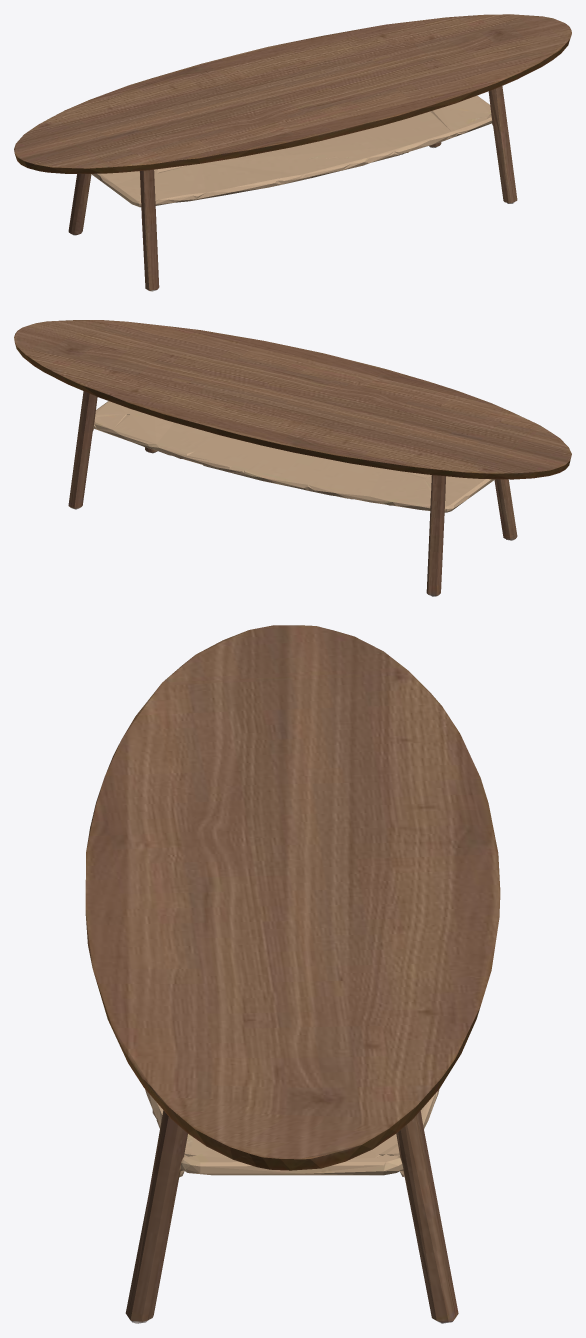
3 renders of one model, top to bottom at view 1: azimuth 30°, elevation 25°; view 2: azimuth 150°, elevation 25°; view 3: azimuth 270°, elevation 25°, orthographic. The views are drawn at different scales.
Parts seen in each view (by area): view 1: ProcessedGeometry; view 2: ProcessedGeometry; view 3: ProcessedGeometry.
Boxes of the visible parts, <box> form: ProcessedGeometry: <box>14,14,571,291</box>; ProcessedGeometry: <box>14,320,571,596</box>; ProcessedGeometry: <box>85,625,500,1323</box>.
Bounding box in the file's own units: 1.8 × 0.4 × 0.59.
1 material, 1 textured.
